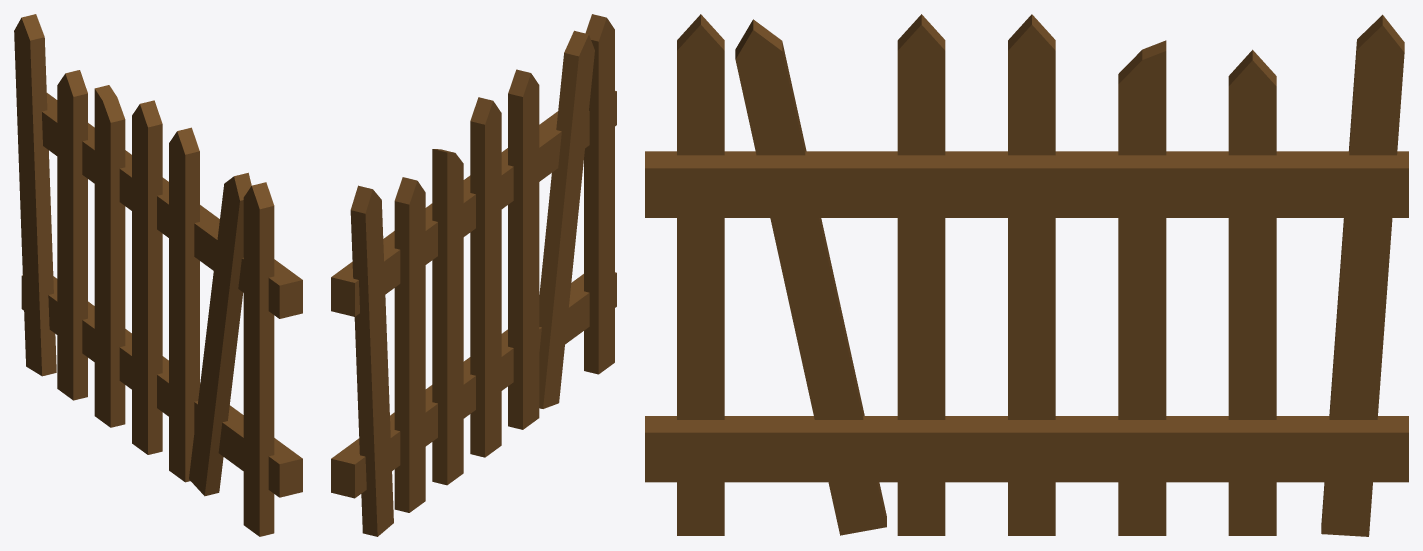
The model's file is Fence 10.fbx.
3 renders of one model, left to right at view 1: azimuth 30°, elevation 25°; view 2: azimuth 150°, elevation 25°; view 3: azimuth 270°, elevation 25°, orthographic. The views are drawn at different scales.
Visible parts, largest first — view 1: Fence_10; view 2: Fence_10; view 3: Fence_10.
Part boxes in pixels (box(x1,y1,x2,y2)): Fence_10: box(14, 14, 302, 536); Fence_10: box(331, 14, 616, 536); Fence_10: box(645, 14, 1408, 536).
Size of the model in its own units: 16.01 by 164 by 221.
1 material, 1 textured.
